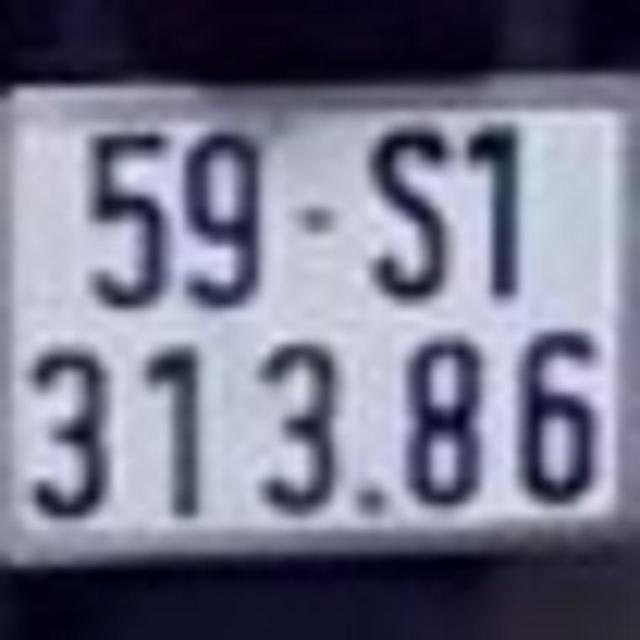1: (464, 116, 532, 303), (142, 340, 206, 519)
3: (25, 342, 114, 523), (255, 337, 338, 516)
5: (84, 124, 172, 311)
6: (518, 318, 603, 506)
8: (403, 324, 485, 509)
9: (180, 125, 266, 312)
S: (366, 119, 452, 304)
